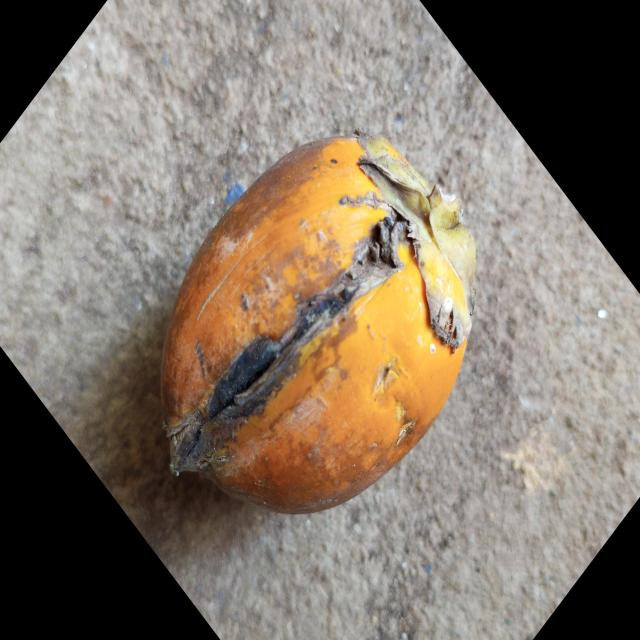damaged: (159, 138, 477, 517)
